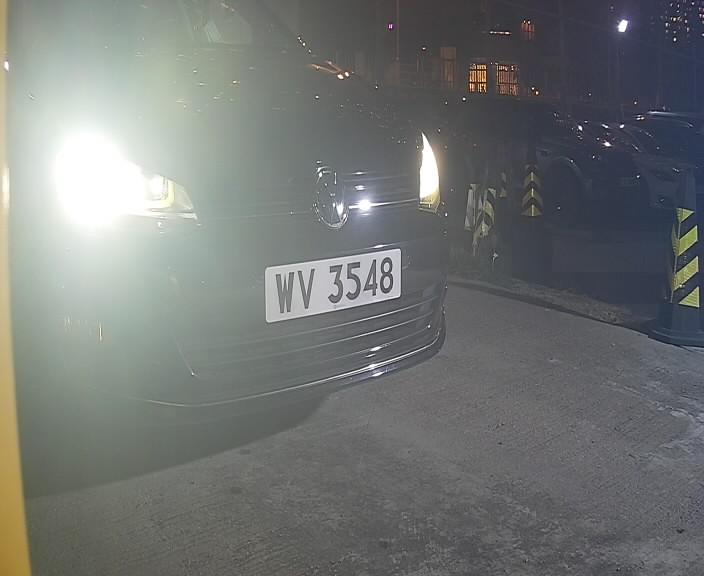License Plate: (258, 242, 406, 325)
